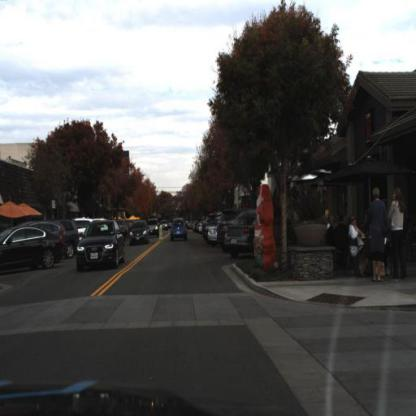car: (1, 225, 65, 272), (75, 218, 126, 273), (222, 211, 259, 262), (225, 207, 256, 261), (129, 220, 152, 248), (169, 217, 190, 245), (149, 217, 161, 242)
pedestrian: (367, 185, 389, 284), (388, 186, 406, 284), (345, 214, 372, 277)
